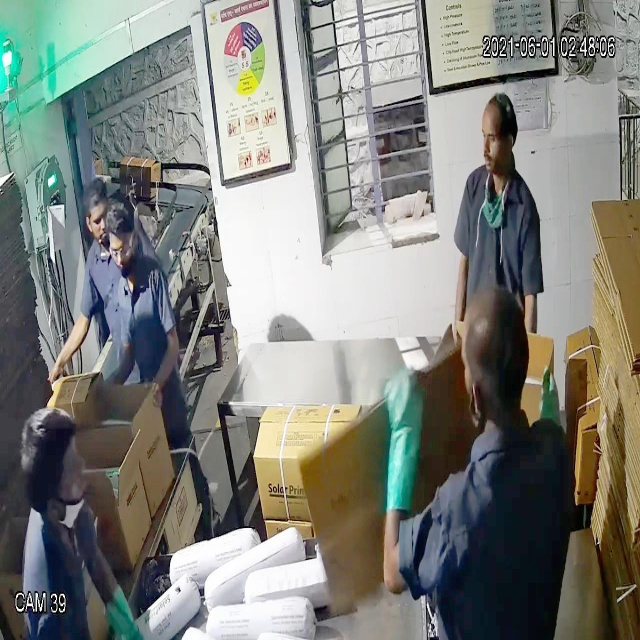Gafas: (107, 236, 135, 264)
Sin_gafas: (478, 124, 520, 156)
